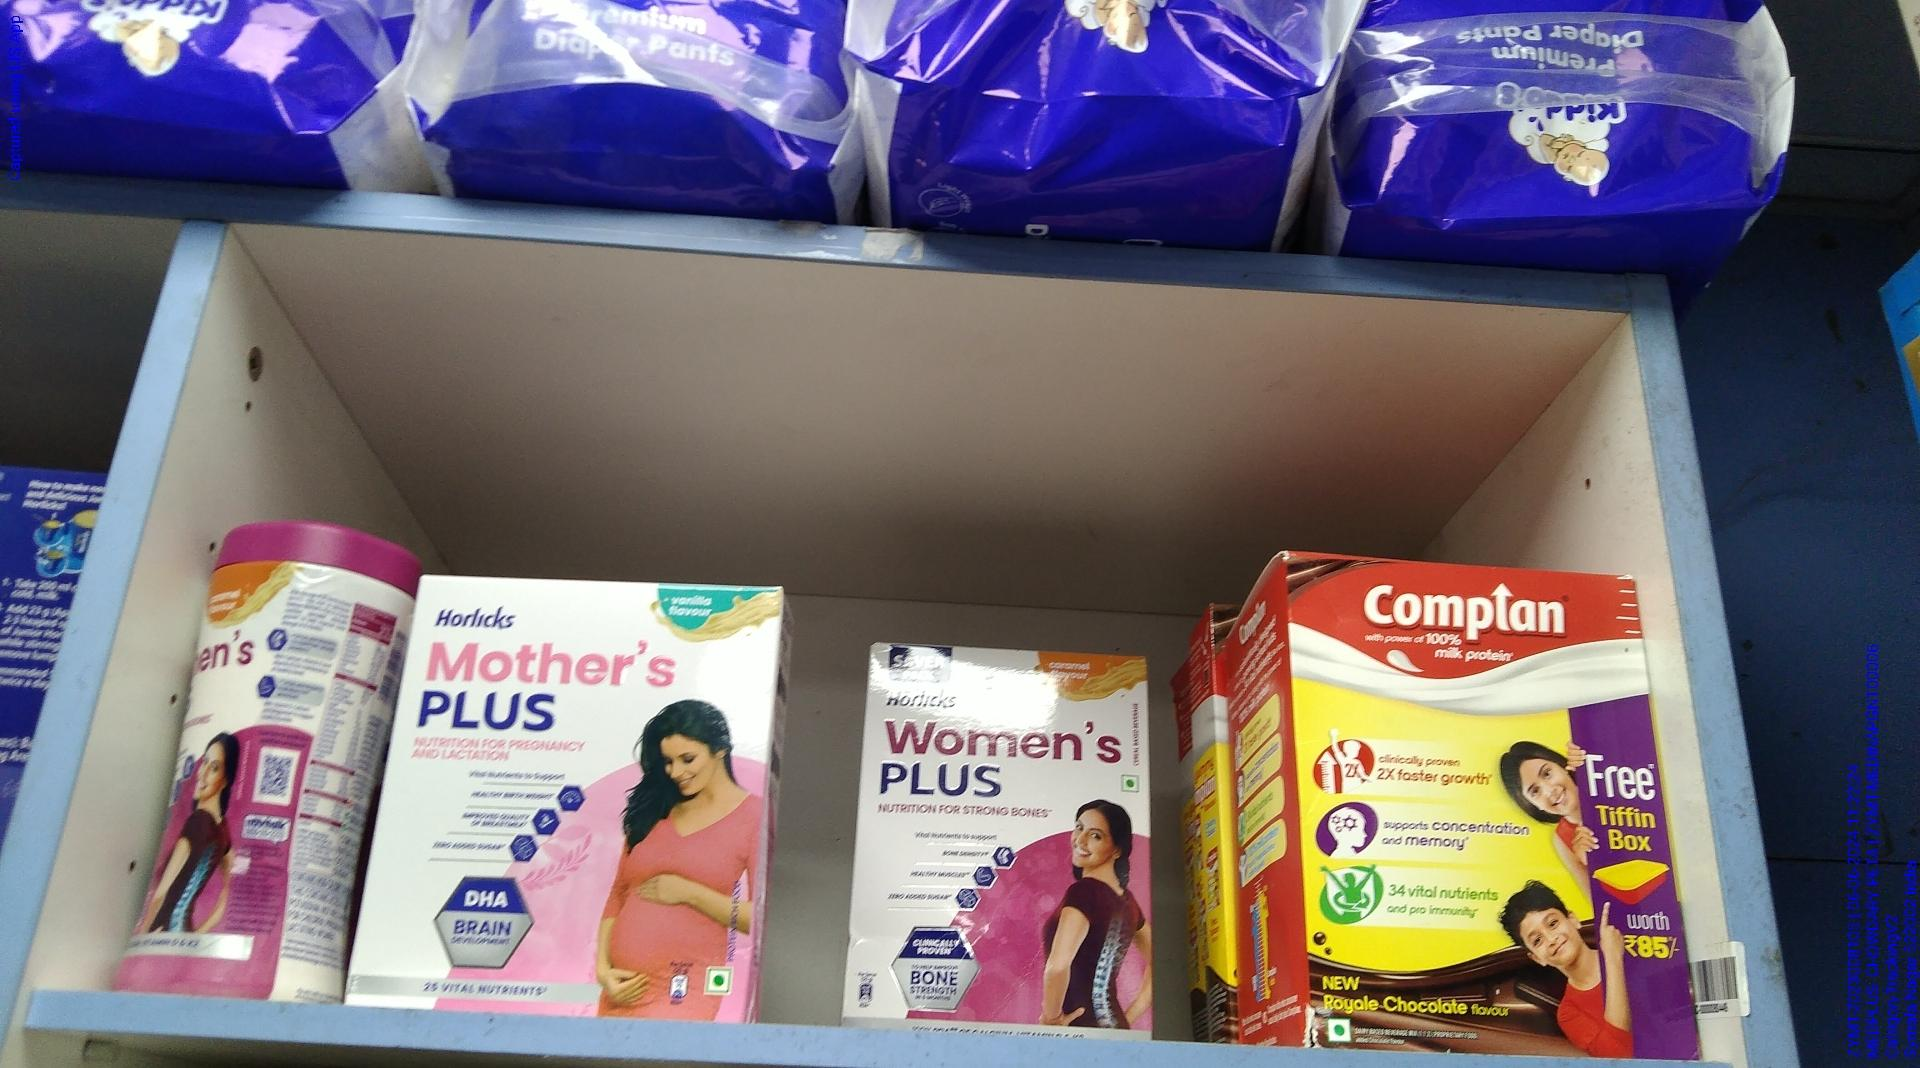COMPLAN_CHOCOLATE_500_GMS_PACK: (1294, 580, 1674, 1050)
